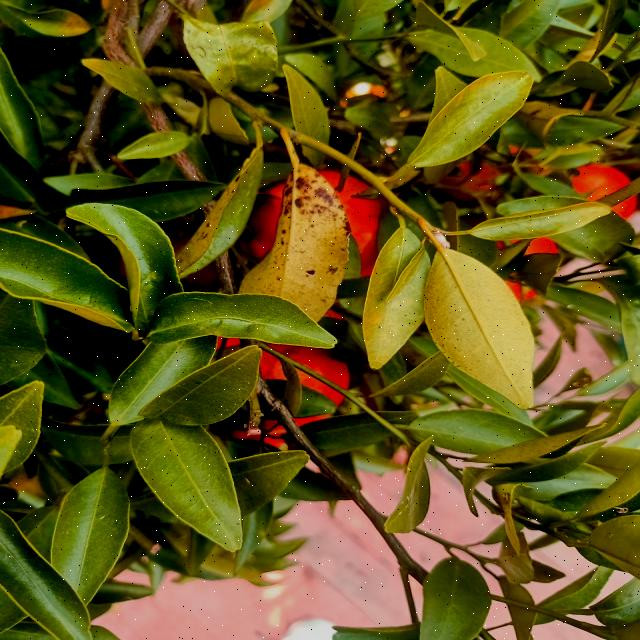melanose: (235, 148, 356, 343)
